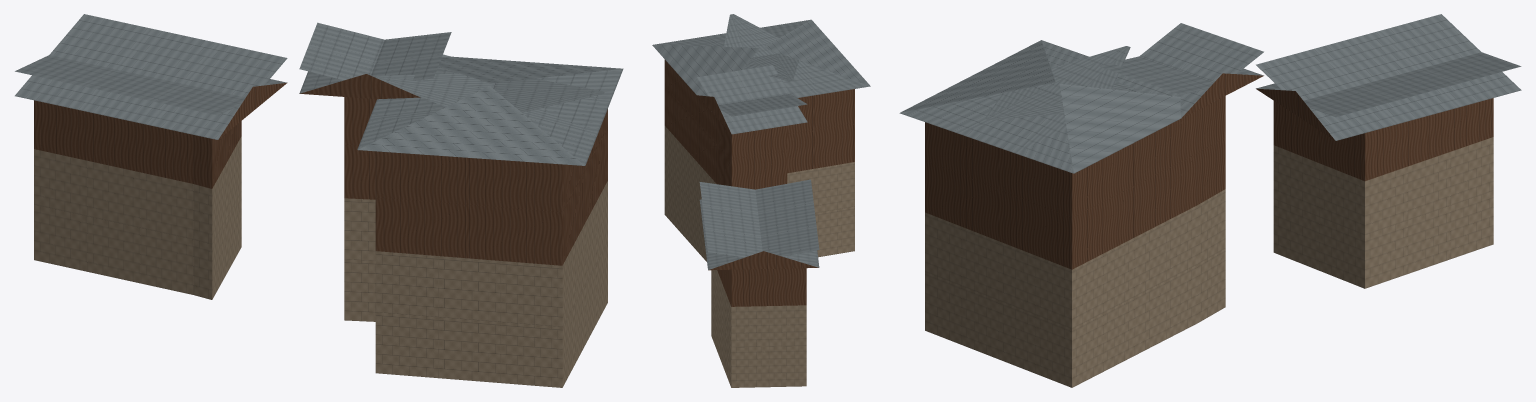
The model's file is bld_c23_44_380.gltf.
3 renders of one model, left to right at view 1: azimuth 30°, elevation 25°; view 2: azimuth 150°, elevation 25°; view 3: azimuth 270°, elevation 25°, orthographic. The views are drawn at different scales.
Visible parts, largest first — view 1: bld_c23_44_380; view 2: bld_c23_44_380; view 3: bld_c23_44_380.
Part boxes in pixels (x1,y1,x2,y2): bld_c23_44_380: (15, 14, 623, 387); bld_c23_44_380: (652, 14, 870, 387); bld_c23_44_380: (899, 14, 1521, 387).
Size of the model in its own units: 17.79 by 10.4 by 23.64.
Materials: 4 (4 with a texture image).
